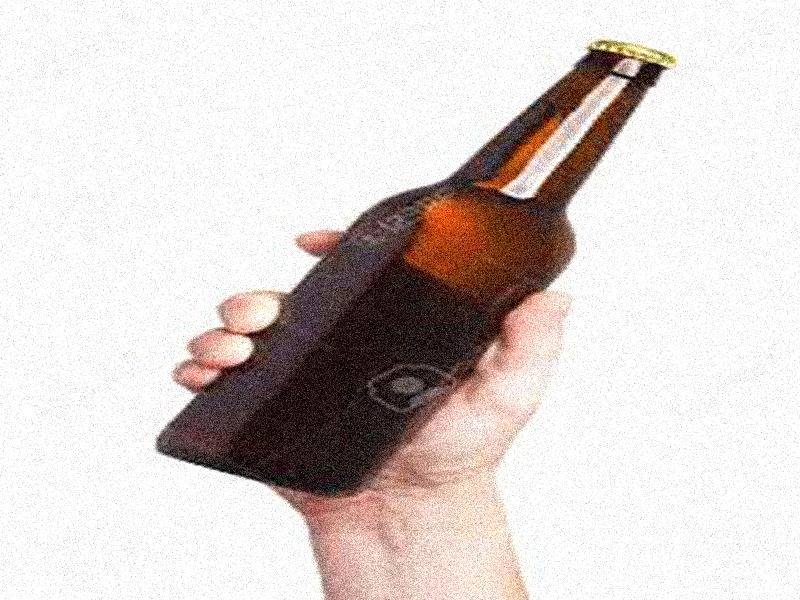Beer: (161, 40, 677, 494)
